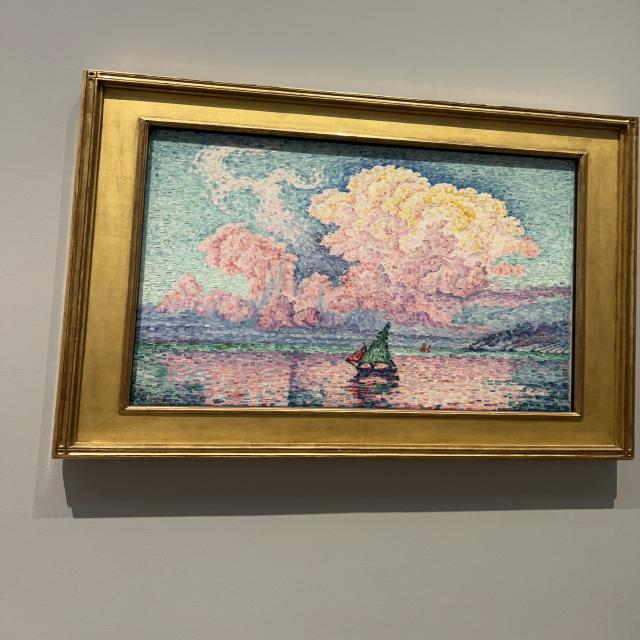sunrise: (136, 142, 574, 408)
